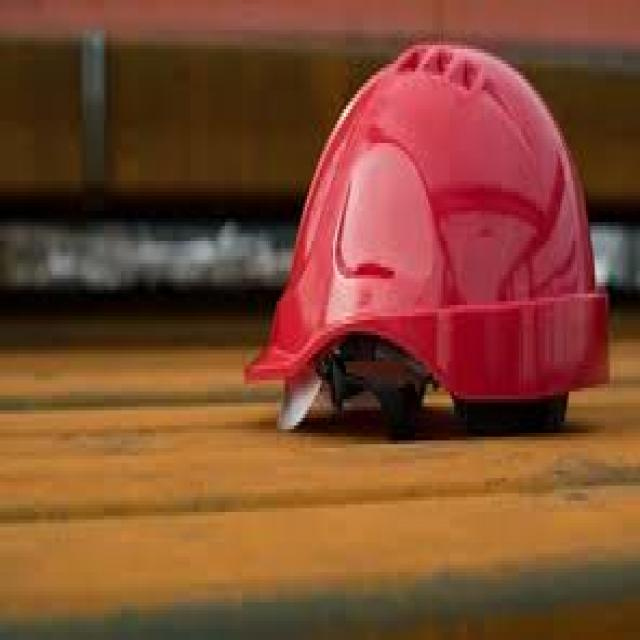Safety-Helmet: (236, 34, 616, 422)
